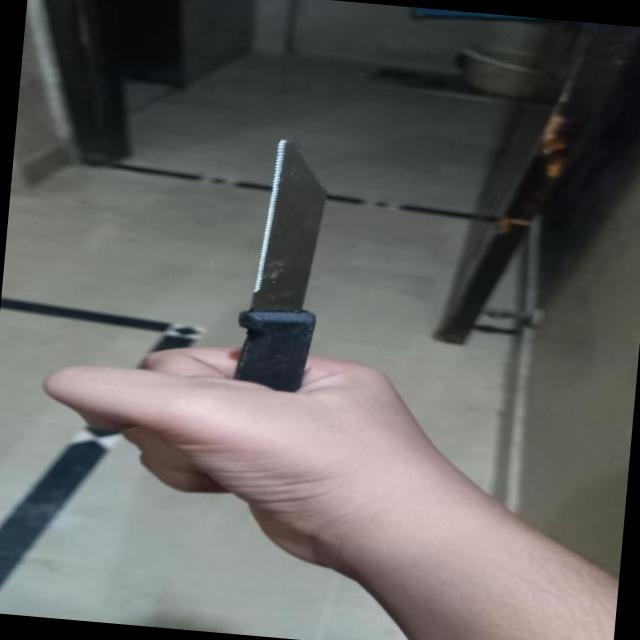Knife: (204, 119, 354, 400)
